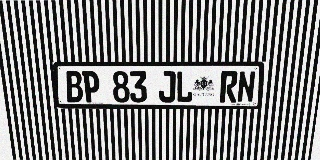3: (130, 71, 147, 102)
8: (112, 71, 130, 102)
B: (65, 71, 83, 102)
J: (159, 71, 176, 102)
L: (176, 71, 193, 102)
N: (237, 71, 256, 103)
P: (82, 71, 100, 102)
R: (220, 71, 238, 103)
